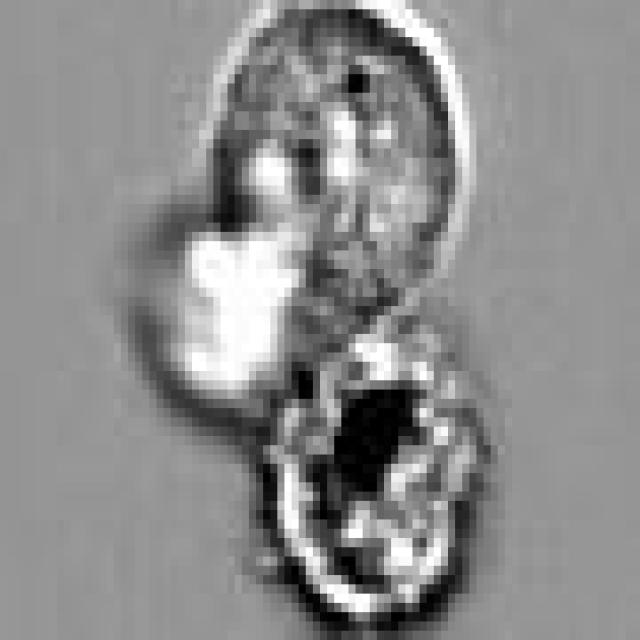Cancer Cell: (206, 9, 469, 306)
WBC: (256, 306, 484, 622)
